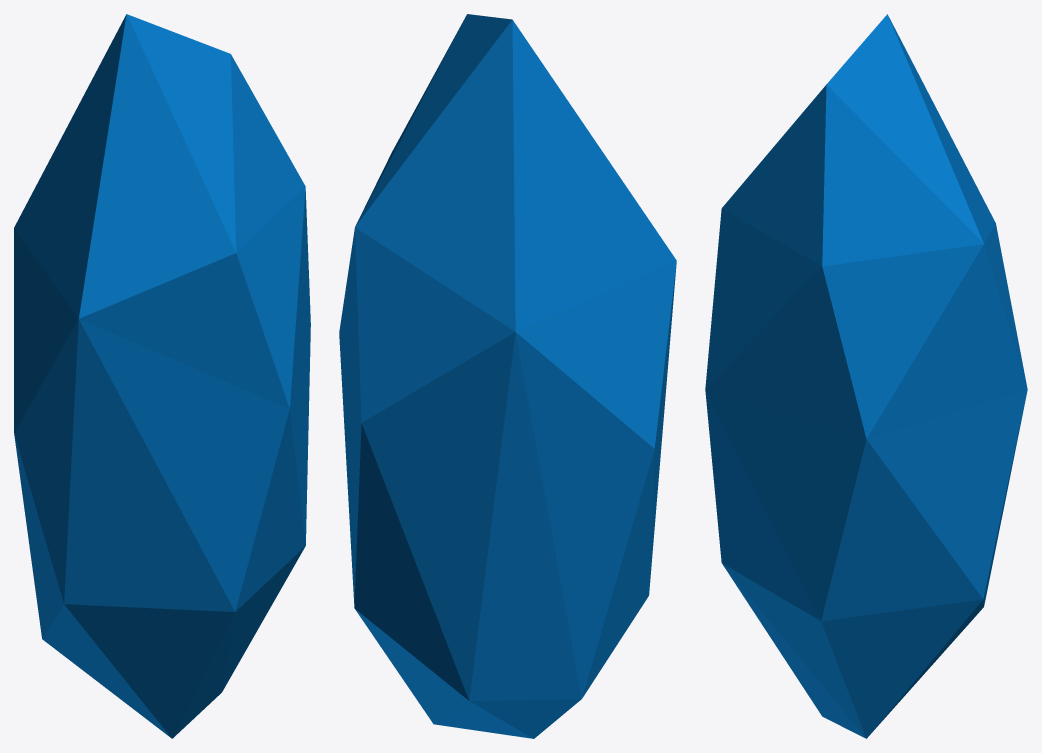
Rendered from blue.fbx.
3 renders of one model, left to right at view 1: azimuth 30°, elevation 25°; view 2: azimuth 150°, elevation 25°; view 3: azimuth 270°, elevation 25°, orthographic. The views are drawn at different scales.
Visible parts, largest first — view 1: Icosphere; view 2: Icosphere; view 3: Icosphere.
Part boxes in pixels (bbox=[...]): Icosphere: bbox=[14, 14, 310, 738]; Icosphere: bbox=[339, 14, 676, 738]; Icosphere: bbox=[705, 14, 1027, 738].
Bounding box in the file's own units: 209 × 473 × 199.
